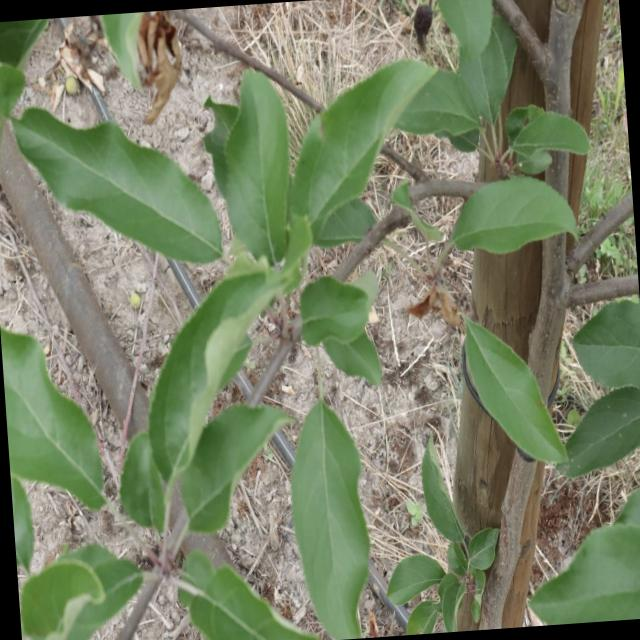-FireBlight-: (134, 10, 190, 120), (422, 280, 468, 339)
